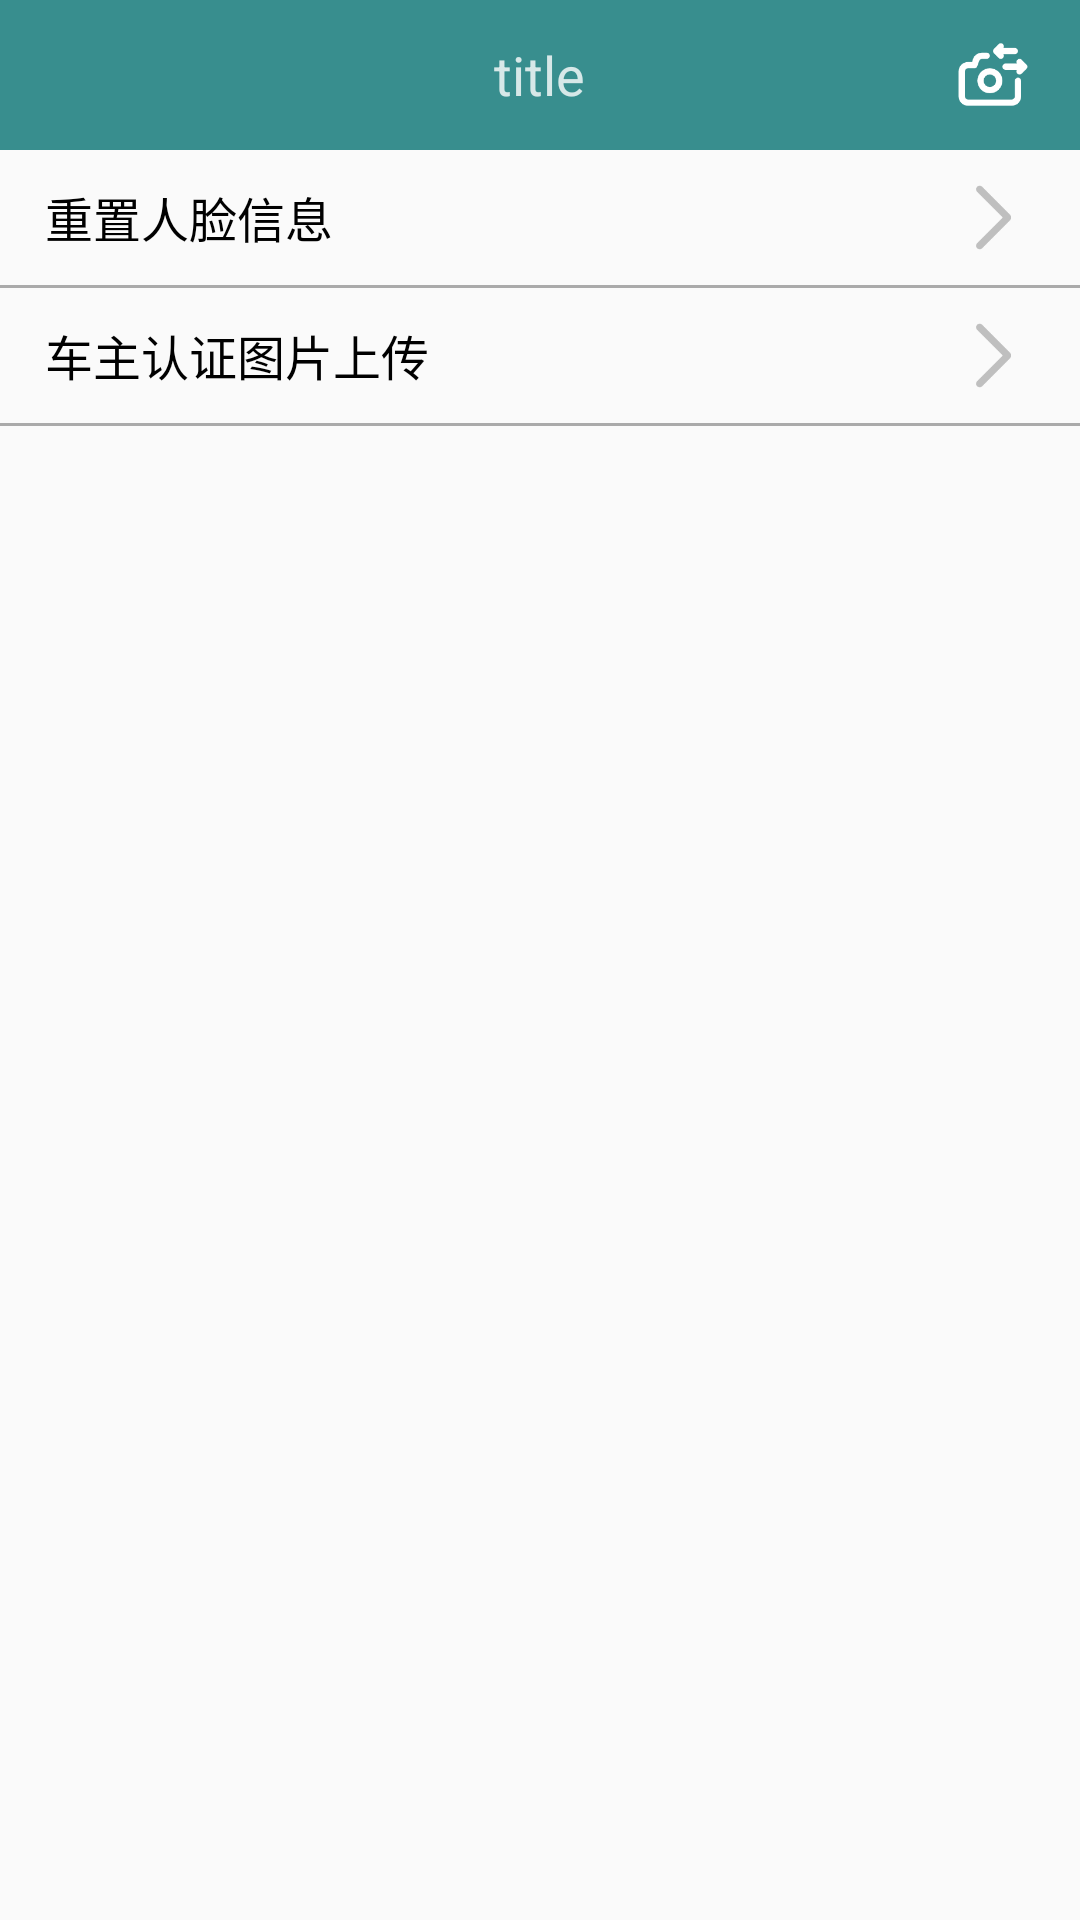

Named icons in this screenshot (1080w x 1920h) and their bounding boxes, bbox(x1, y1, x2, y2):
camera change: bbox(958, 43, 1028, 106)
more: bbox(976, 186, 1011, 249), bbox(976, 324, 1011, 387)
